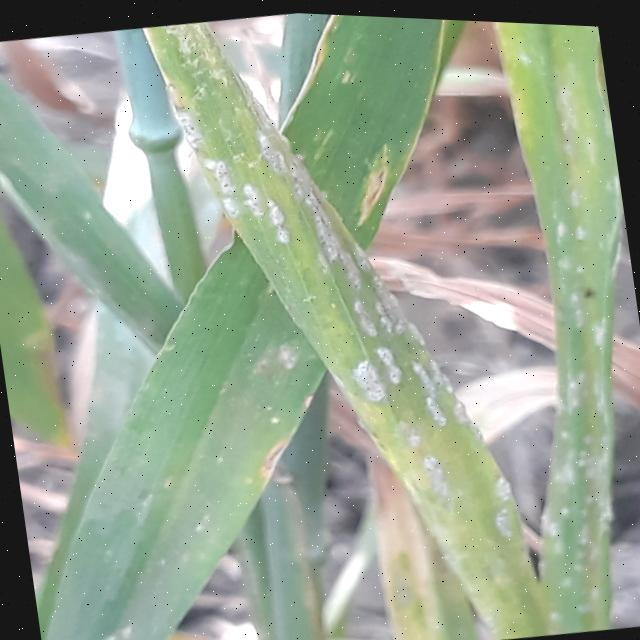powder_mildew: (137, 5, 535, 640), (453, 16, 640, 633), (4, 349, 221, 640), (0, 27, 133, 288)
